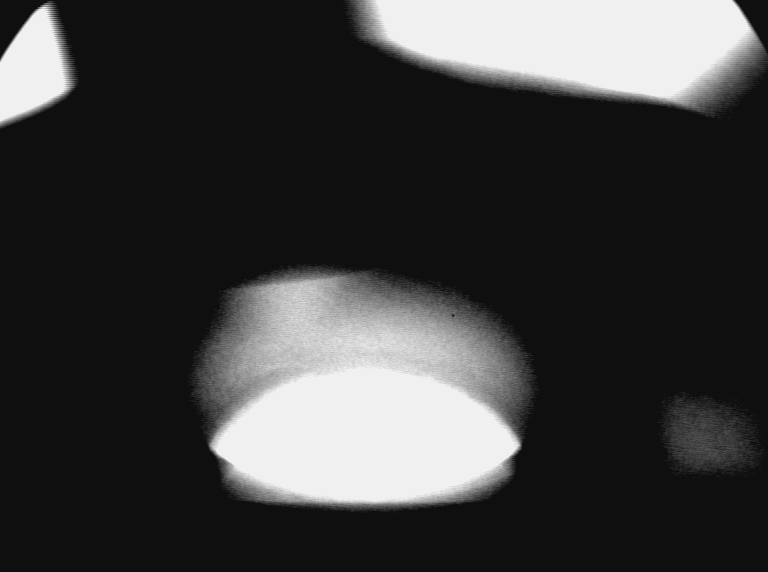defect: (196, 335, 303, 419)
